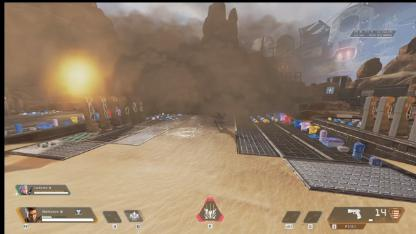Target: (212, 110, 226, 128)
